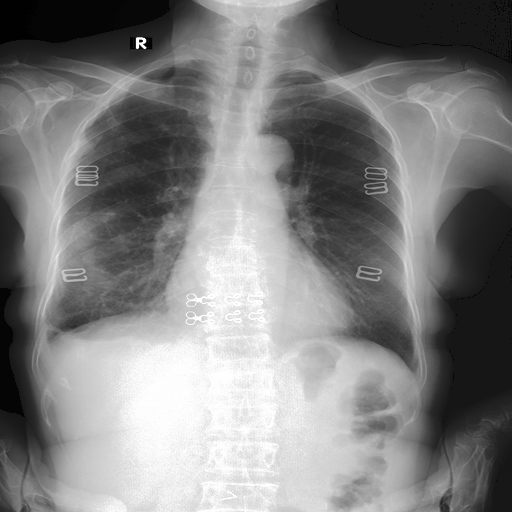Aortic enlargement: (44, 216, 117, 294)
Calcification: (61, 80, 130, 171), (35, 318, 64, 353)
ILD: (57, 215, 128, 301)
Pleural effusion: (35, 318, 64, 353)
Pleural thickening: (73, 238, 122, 305)
Pneumothorax: (45, 325, 65, 335)
